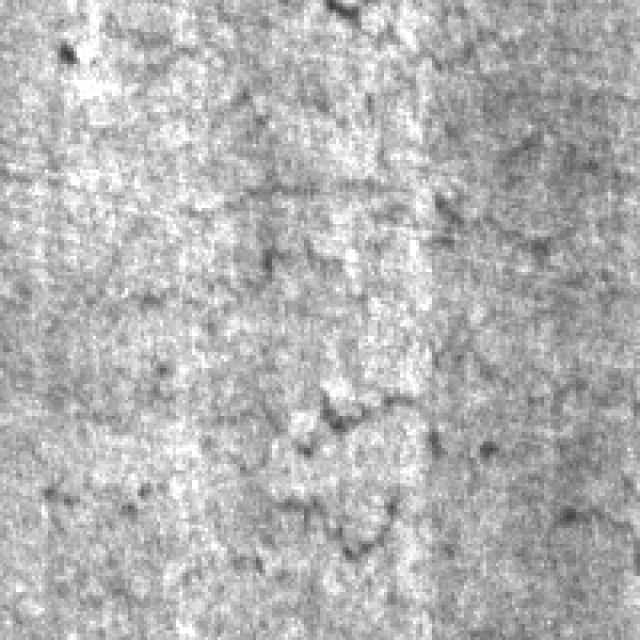crazing: (157, 80, 611, 317), (42, 384, 454, 589)
